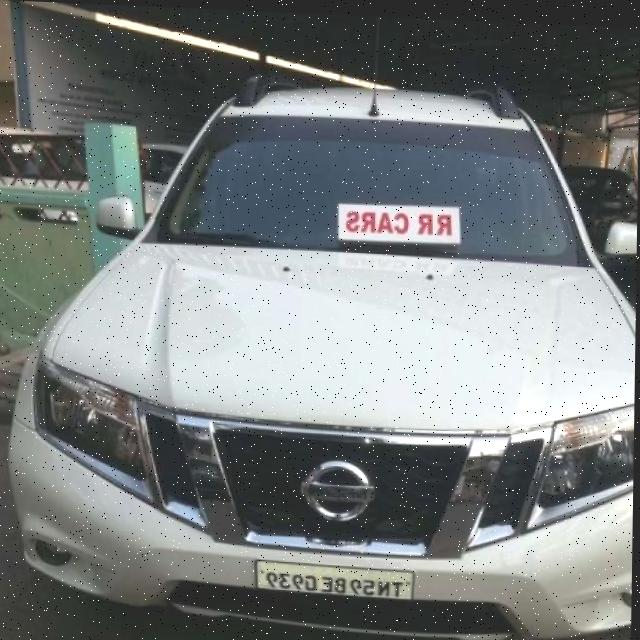plate: (255, 558, 416, 596)
